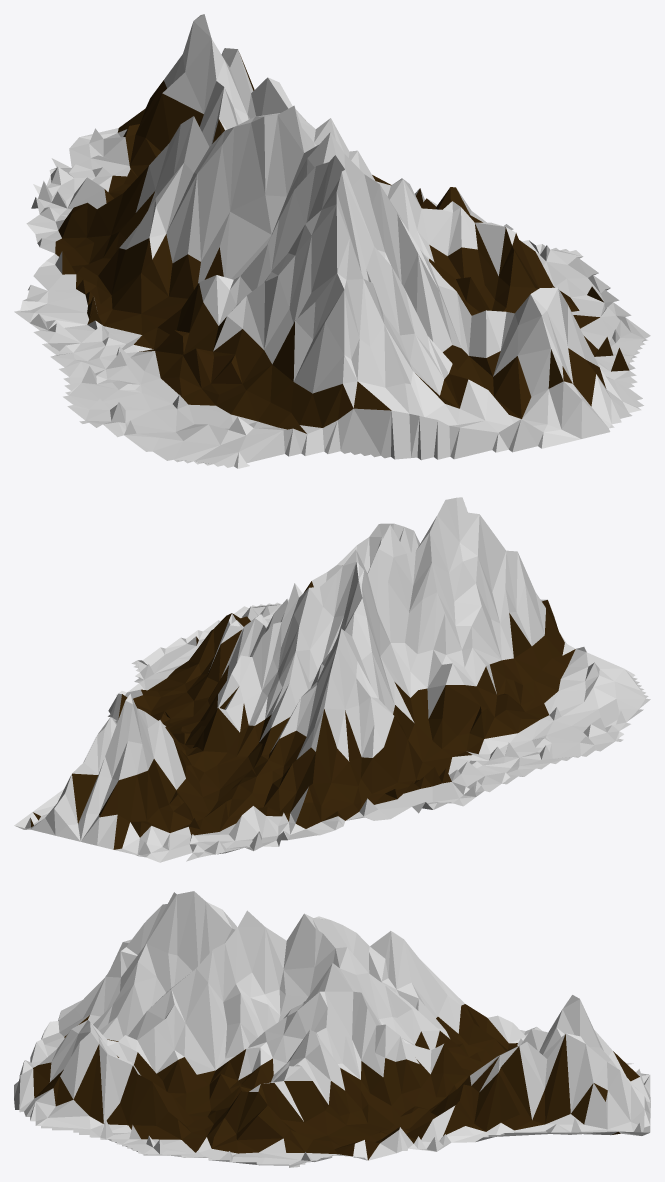
File: landscape_01.fbx
3 renders of one model, top to bottom at view 1: azimuth 30°, elevation 25°; view 2: azimuth 150°, elevation 25°; view 3: azimuth 270°, elevation 25°, orthographic. The views are drawn at different scales.
Parts seen in each view (by area): view 1: Plane; view 2: Plane; view 3: Plane.
Part boxes in pixels (<box>): Plane: <box>14,14,650,468</box>; Plane: <box>14,497,650,862</box>; Plane: <box>14,891,650,1167</box>.
Size of the model in its own units: 134 by 54.44 by 185.
